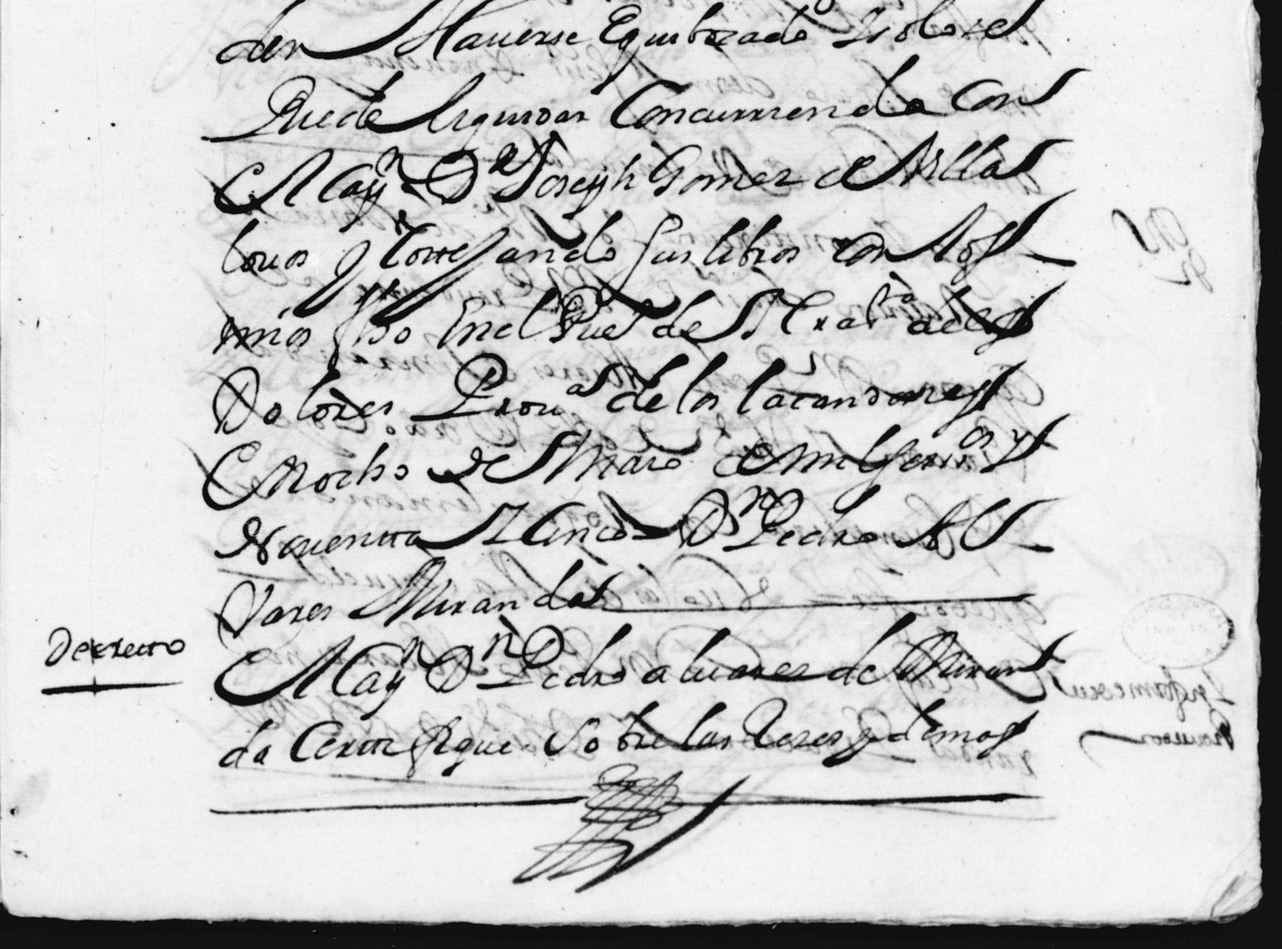lacandon: (737, 357, 1027, 439)
